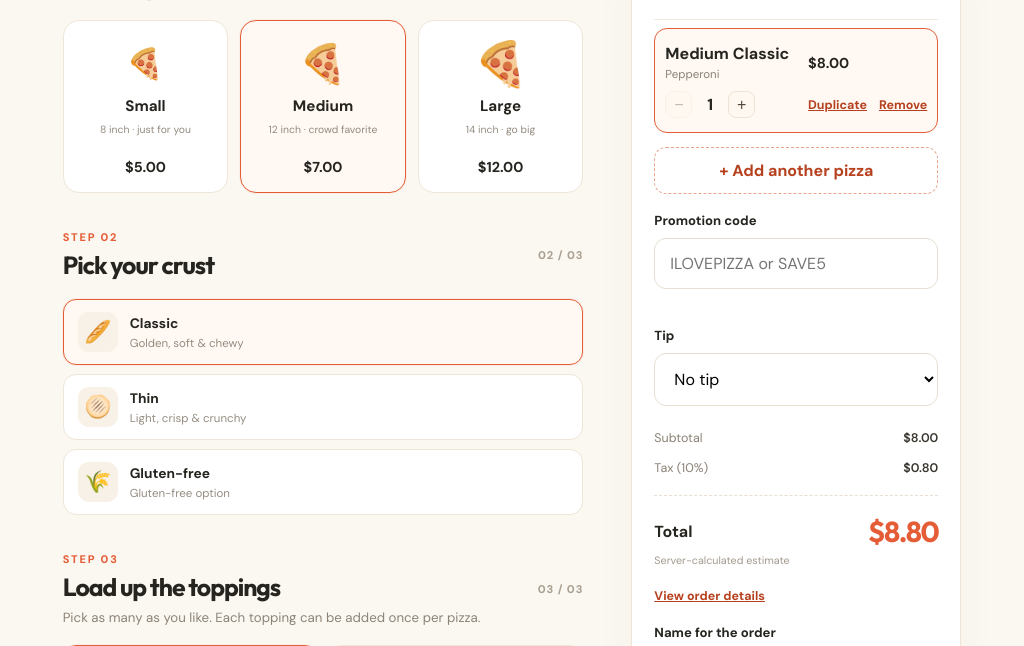
UI-001: every amount shown is the server’s, never computed in the browser › shows the server’s tip amount and total for a percentage tip
The width and height of the screenshot is (1024, 646).
(page scrolled)
Check: the radio button labelled "🍕 Medium 12 inch · crowd favorite $7.00" is shown, box [240,20,406,193]
Check: the text with test id "order-total" reads "$8.80", box [868,513,938,549]
Select "Percentage tip" in the dropdown labelled "Tip" at (796, 380), box [654,353,938,406]
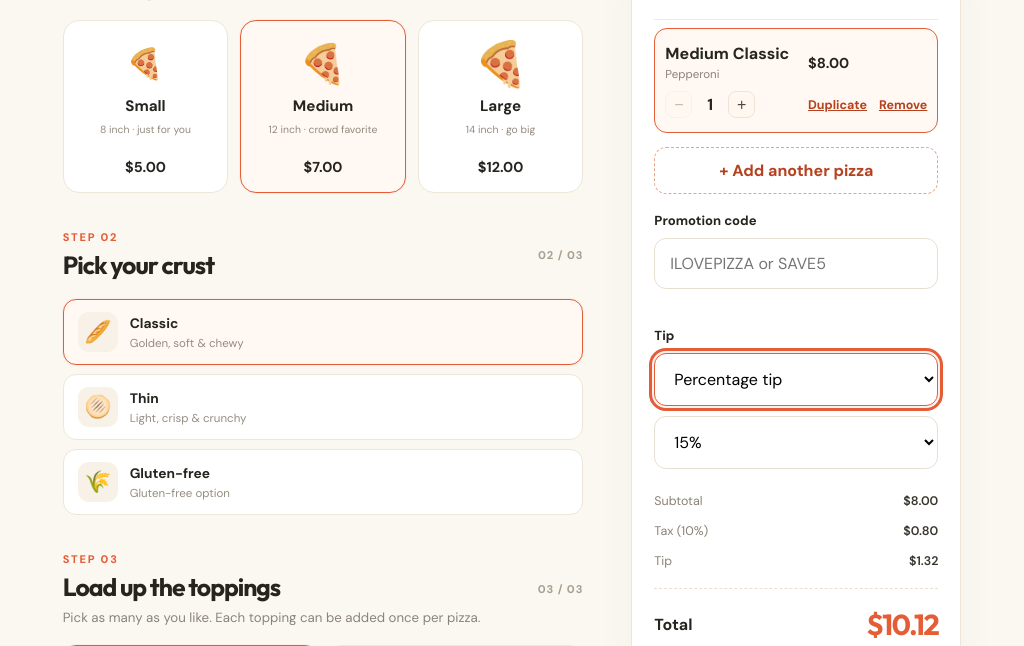
Check: the text with test id "order-total" reads "$10.12", box [866,606,938,642]
